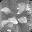people: (7, 18, 18, 27), (17, 3, 25, 14), (1, 7, 11, 15), (18, 16, 27, 24), (0, 19, 7, 27)
